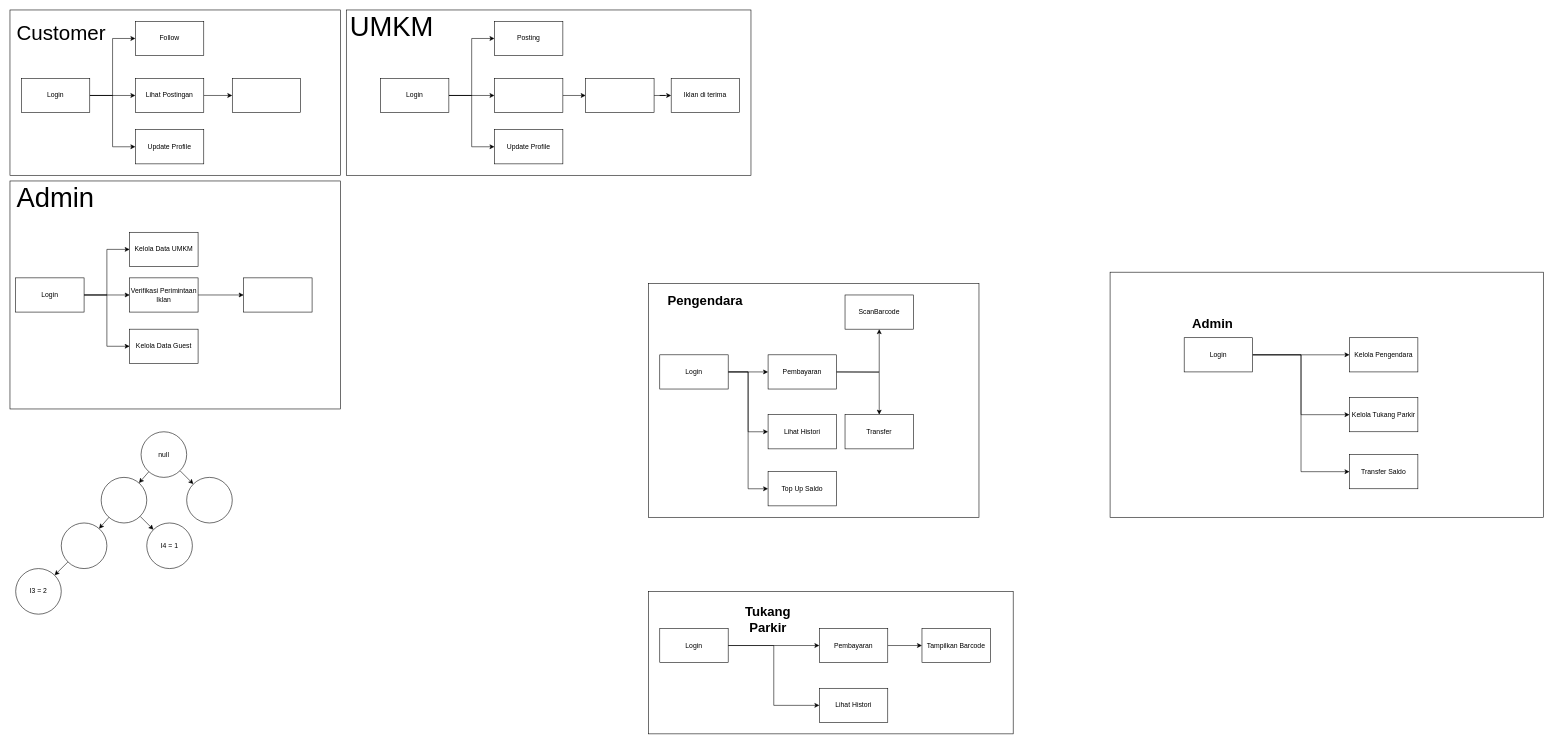
Image size: 1553x744. Some labels were removed from this diagram. Each missing label, with the centre of its shape:
"I1 = 6" goes at point 124,500.
"I4 = 2" goes at point 209,500.
"I5 = 4" goes at point 84,545.
"Iklan di tampilkan" goes at point 277,294.
"Komentar" goes at point 266,95.
"Request di terima" goes at point 619,95.
"Request Iklan" goes at point 528,95.
